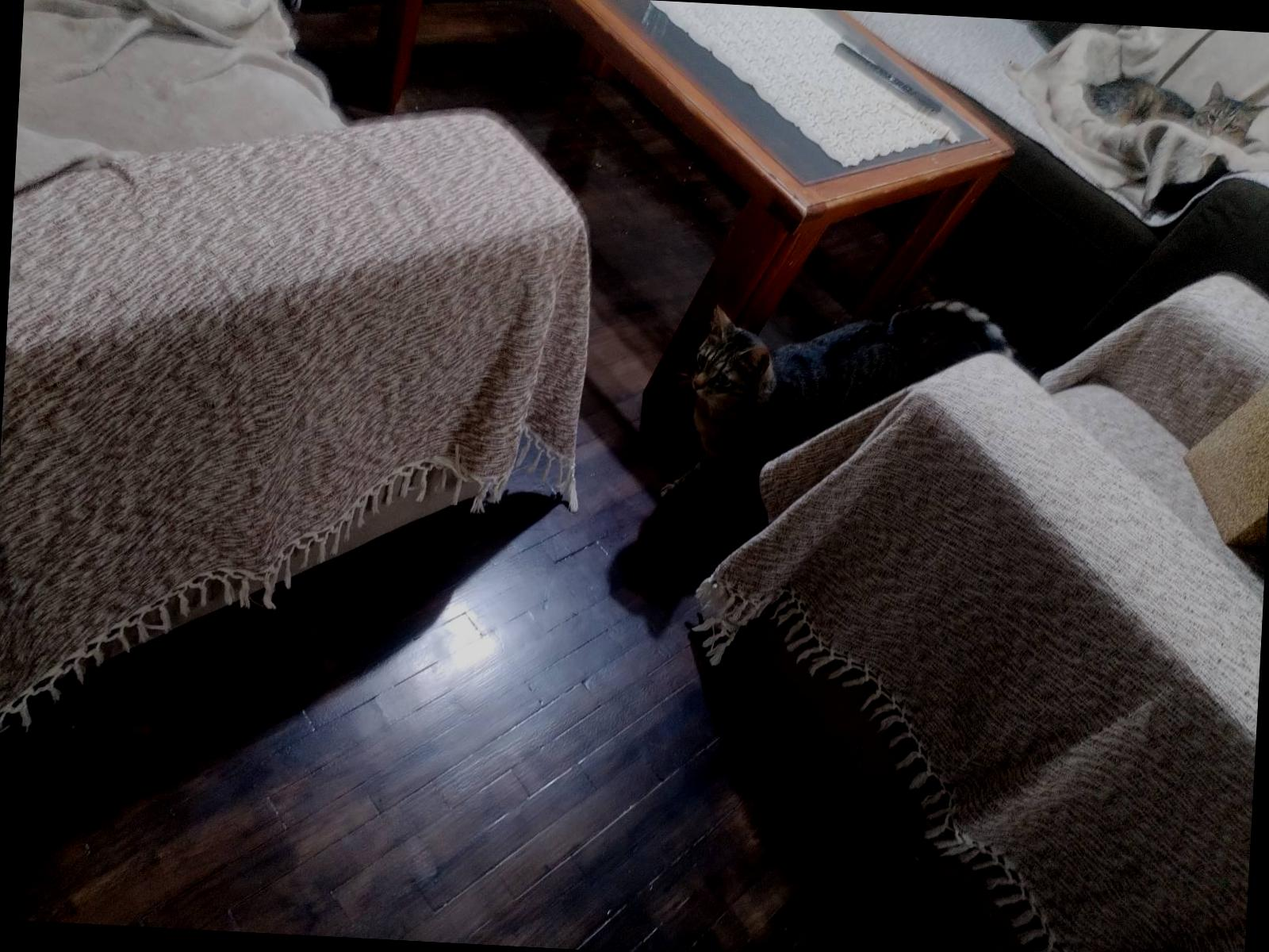macka: (652, 281, 1027, 536)
